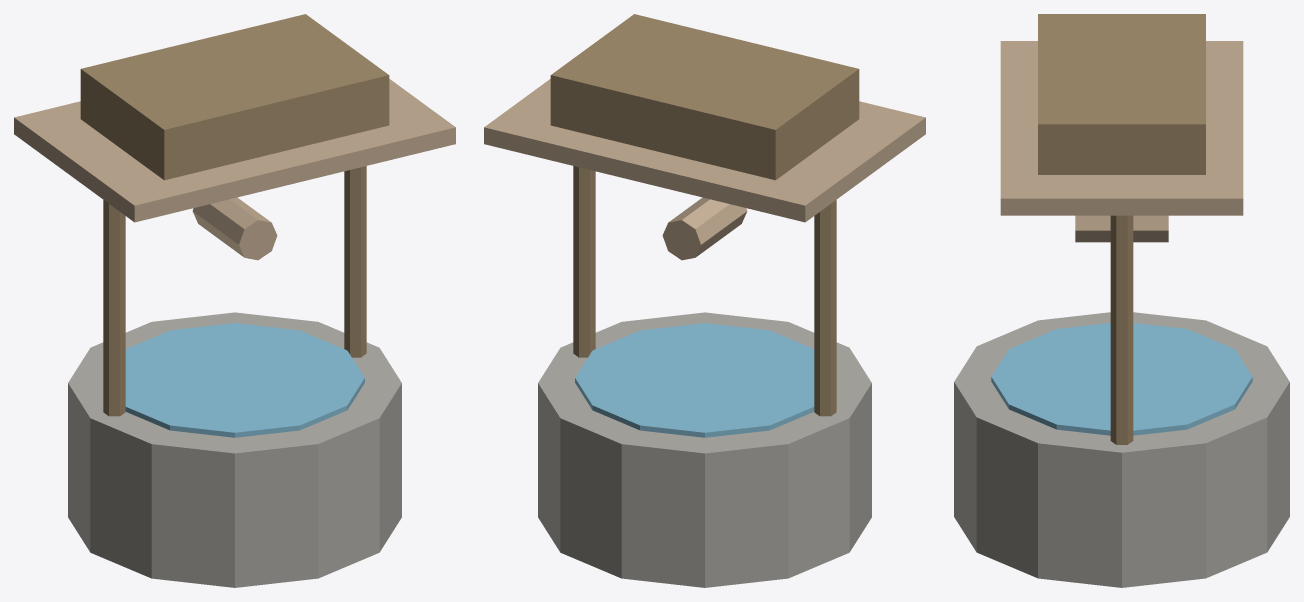
Rendered from healing_well.glb.
3 renders of one model, left to right at view 1: azimuth 30°, elevation 25°; view 2: azimuth 150°, elevation 25°; view 3: azimuth 270°, elevation 25°, orthographic.
Visible parts, largest first — view 1: healing_well; view 2: healing_well; view 3: healing_well.
Boxes of the visible parts, bbox=[...] form: healing_well: bbox=[14, 14, 455, 587]; healing_well: bbox=[484, 14, 925, 587]; healing_well: bbox=[954, 14, 1289, 587].
Size of the model in its own units: 2 by 2.65 by 1.8.
